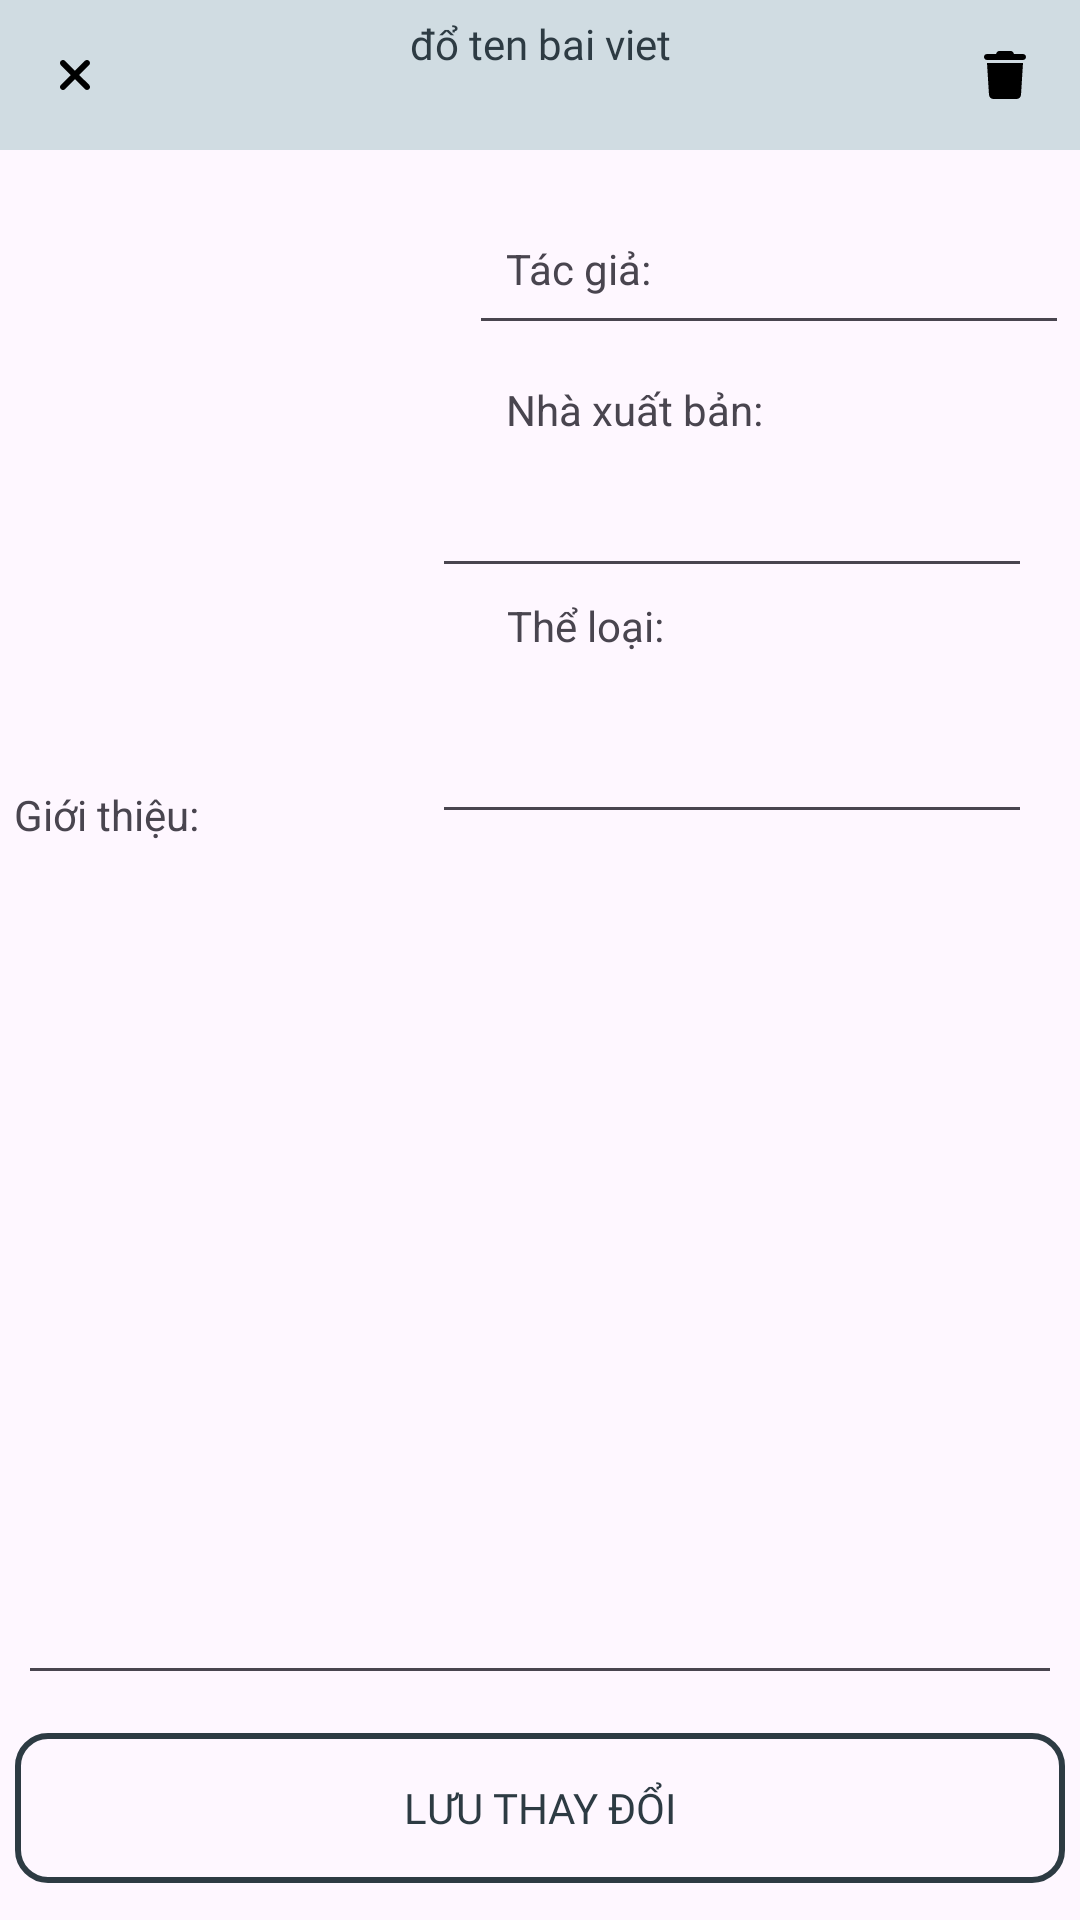

Icon bounding boxes for this 1080 x 1920 phone screenshot, format (x1, y1, x2, y2):
thoát: (60, 60, 90, 90)
xoa: (984, 51, 1026, 99)
